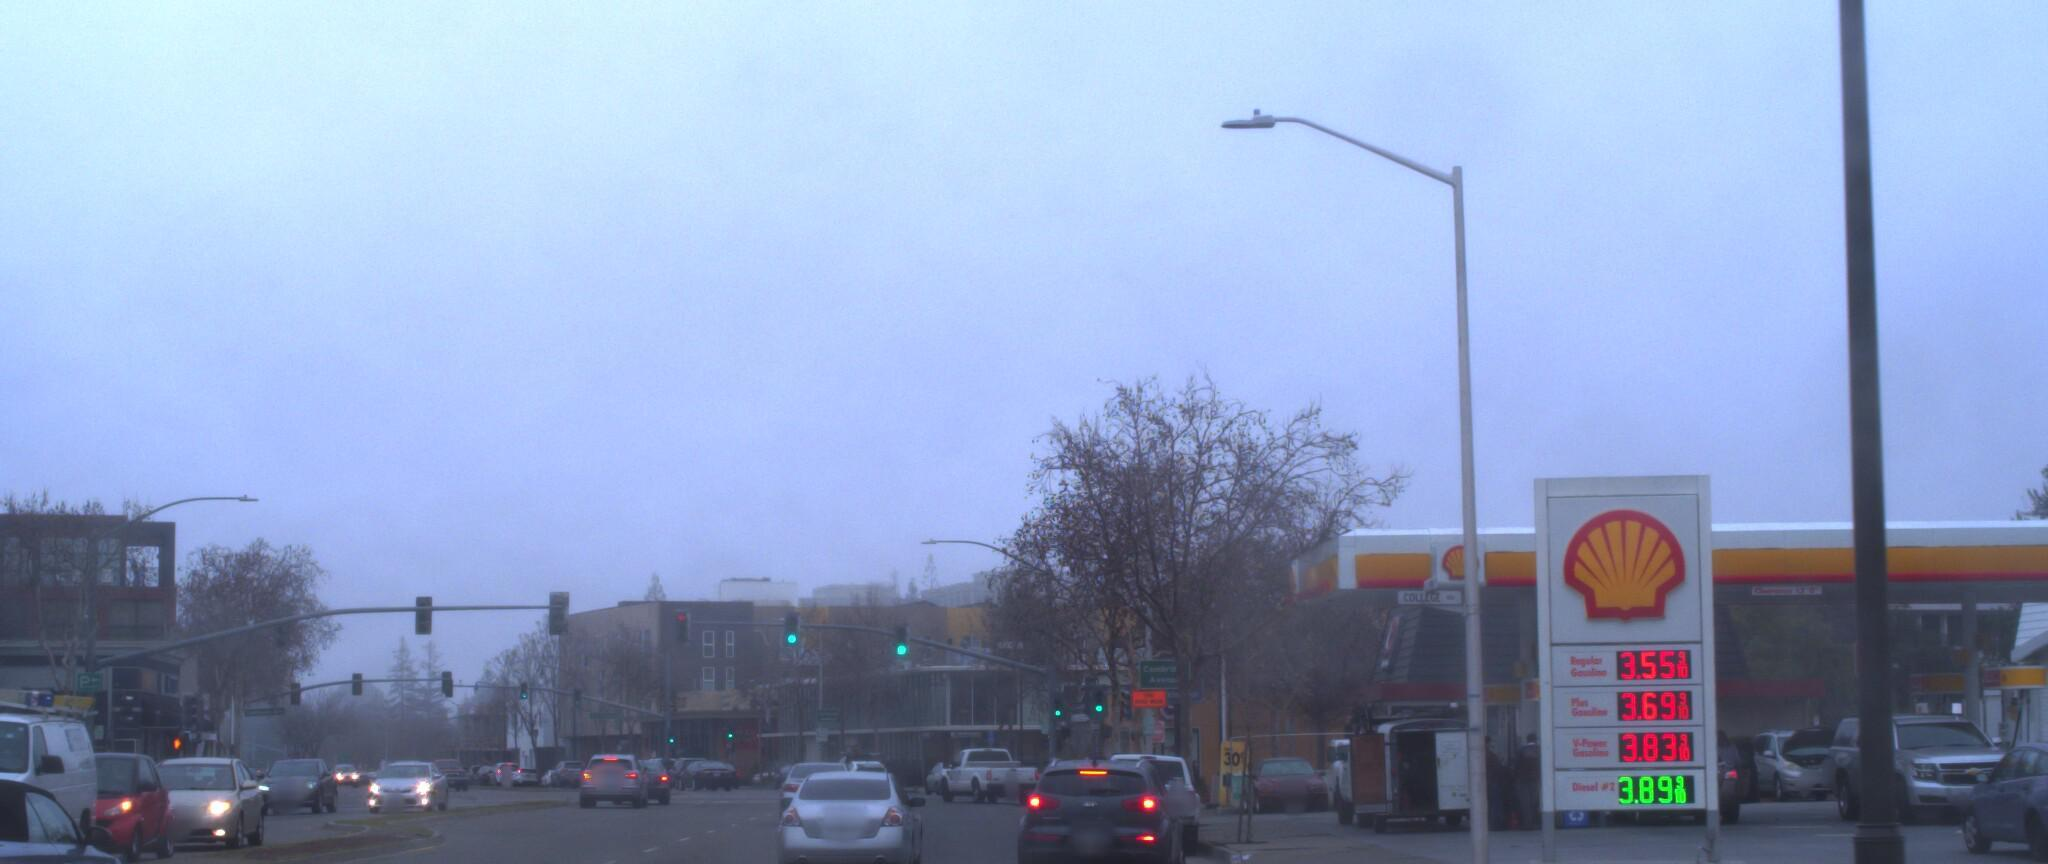car: (1315, 685, 1479, 837), (1805, 711, 2017, 818), (998, 747, 1179, 864), (31, 735, 208, 844), (767, 760, 922, 864), (1928, 731, 2048, 861), (123, 737, 277, 830), (1070, 737, 1199, 847), (1586, 735, 1735, 825), (1724, 714, 1853, 790)
